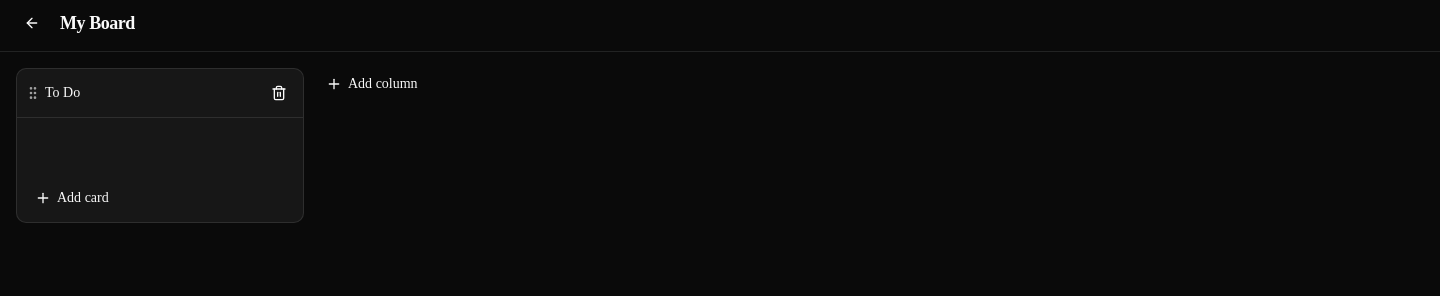
BoardCanvas › creates a card in a column
Expected: the button "To Do" is shown, [45,83,80,103]
Click the button "Add card": click(72, 198) [25,182,119,214]
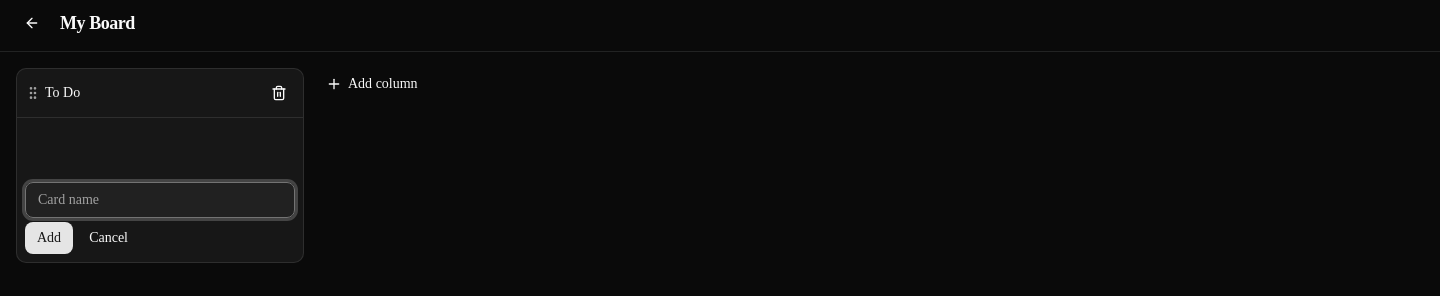
In the field named "New card name": (160, 200) [25,182,295,218], type "New Task"
Then press Enter
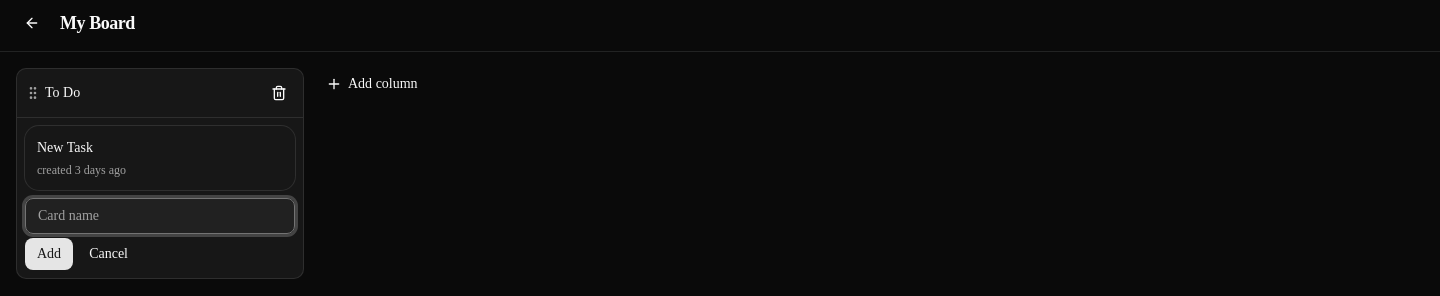
Now the button "New Task created 3 days ago" is shown, box [25,126,295,190]
